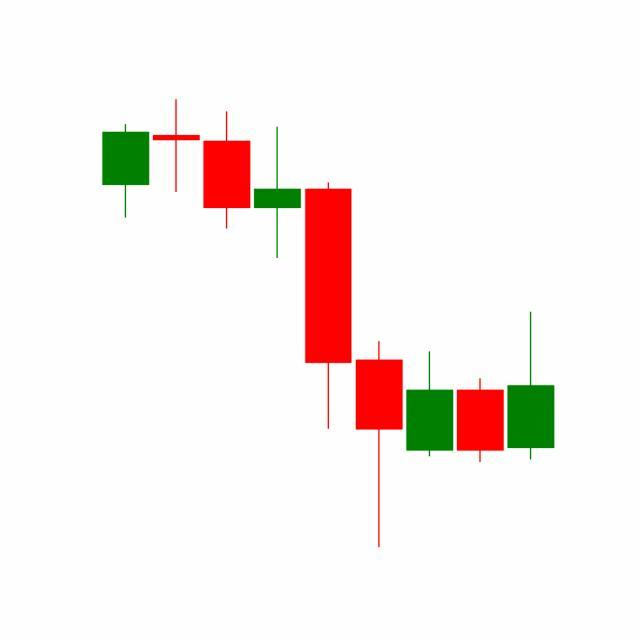Hikkake Pattern: (252, 123, 506, 549)
